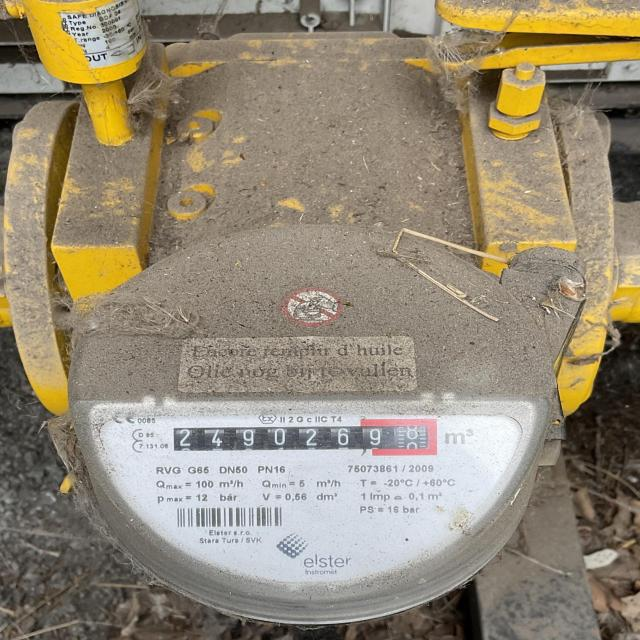gaz_meter: (69, 226, 563, 595)
indication: (171, 420, 440, 456)
